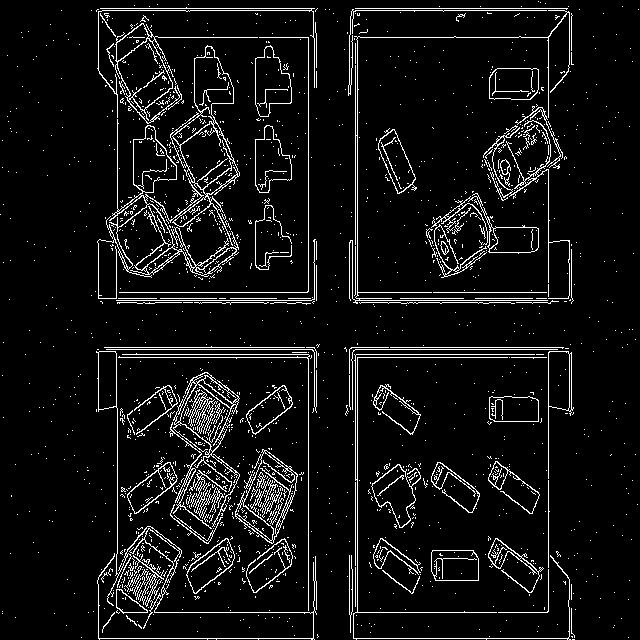Battery: (120, 458, 178, 519), (120, 385, 180, 438), (488, 538, 544, 593), (186, 538, 235, 596), (244, 539, 295, 593), (489, 459, 540, 513), (374, 538, 421, 593), (376, 129, 416, 193), (431, 462, 480, 513), (372, 384, 421, 434), (245, 385, 292, 436), (491, 68, 540, 100), (491, 392, 539, 423), (431, 550, 479, 581), (490, 228, 539, 254)
Pump: (100, 18, 182, 124), (106, 16, 182, 125), (482, 106, 566, 201), (108, 526, 181, 628), (116, 16, 182, 122), (170, 454, 240, 543), (426, 192, 498, 277), (108, 195, 181, 278), (234, 449, 298, 543), (171, 196, 239, 279), (170, 372, 239, 452), (171, 118, 239, 185), (108, 48, 115, 59)
Sensor: (107, 20, 182, 124), (369, 464, 421, 528), (132, 127, 178, 194), (255, 44, 292, 118), (255, 125, 294, 194), (254, 201, 292, 270), (194, 47, 233, 110)
